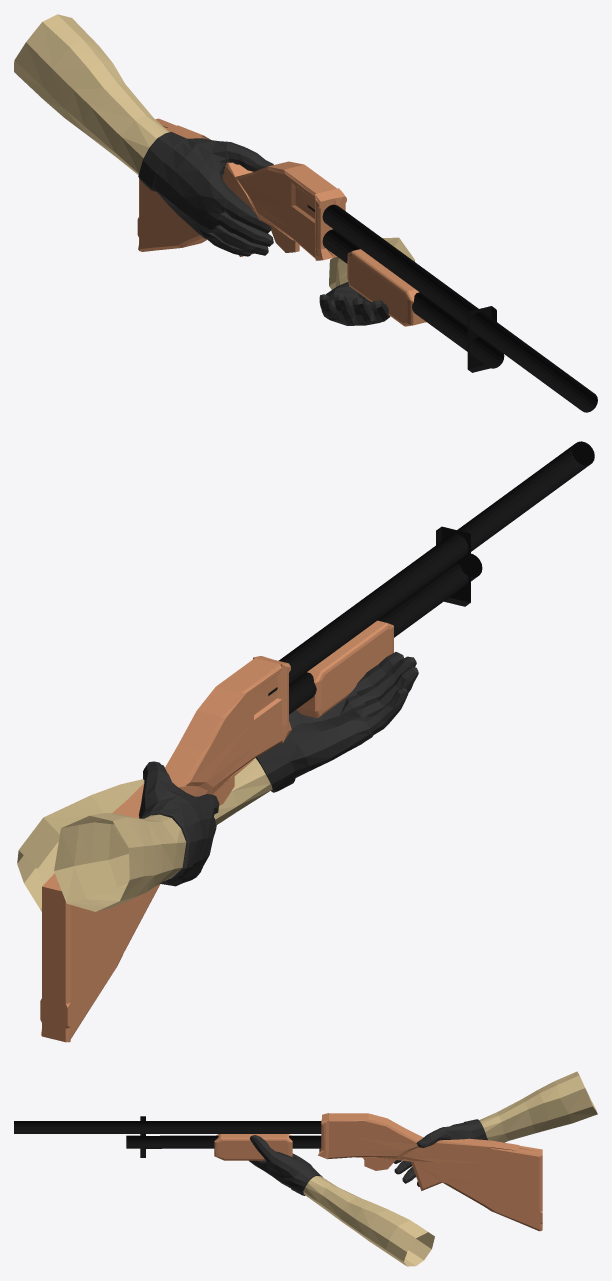
File: hands-shotgun.fbx
The picture shows the model from 3 angles, top to bottom: view 1: azimuth 30°, elevation 25°; view 2: azimuth 150°, elevation 25°; view 3: azimuth 270°, elevation 25°; orthographic projection. The views are drawn at different scales.
Visible parts, largest first — view 1: UA, Plane03.001, F5c, Plane03.005, Plane03.003, Plane03, Plane03.004; view 2: Plane03.001, Plane03.003, UA, Plane03.005, F5c, Plane03, Plane03.004; view 3: Plane03.001, Plane03.003, UA, Plane03.005, Plane03, F5c.
Part boxes in pixels (bbox=[...]): UA: bbox=[14, 14, 169, 174]; Plane03.001: bbox=[137, 118, 346, 260]; F5c: bbox=[138, 132, 273, 256]; Plane03.005: bbox=[307, 204, 597, 412]; Plane03.003: bbox=[319, 237, 426, 326]; Plane03: bbox=[322, 229, 504, 368]; Plane03.004: bbox=[467, 306, 496, 372]; Plane03.001: bbox=[40, 656, 291, 1042]; Plane03.003: bbox=[17, 620, 418, 911]; UA: bbox=[54, 813, 186, 911]; Plane03.005: bbox=[268, 441, 594, 695]; F5c: bbox=[139, 761, 219, 886]; Plane03: bbox=[289, 553, 482, 714]; Plane03.004: bbox=[436, 526, 470, 606]; Plane03.001: bbox=[318, 1113, 542, 1231]; Plane03.003: bbox=[214, 1134, 434, 1266]; UA: bbox=[479, 1071, 597, 1142]; Plane03.005: bbox=[14, 1121, 321, 1133]; Plane03: bbox=[126, 1135, 321, 1148]; F5c: bbox=[394, 1119, 487, 1186].
Bounding box in the file's own units: 7.82 × 7.28 × 27.17.
